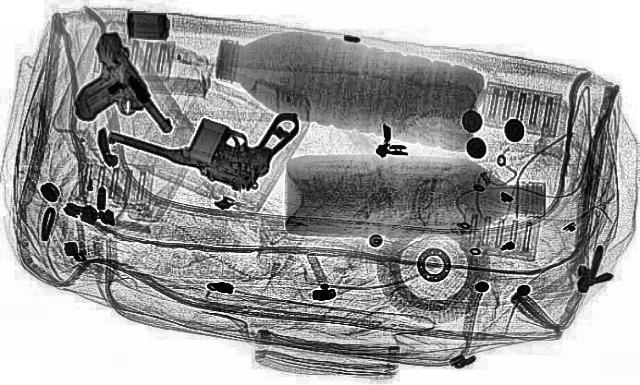Gun: (95, 73, 322, 193), (28, 28, 184, 145)
